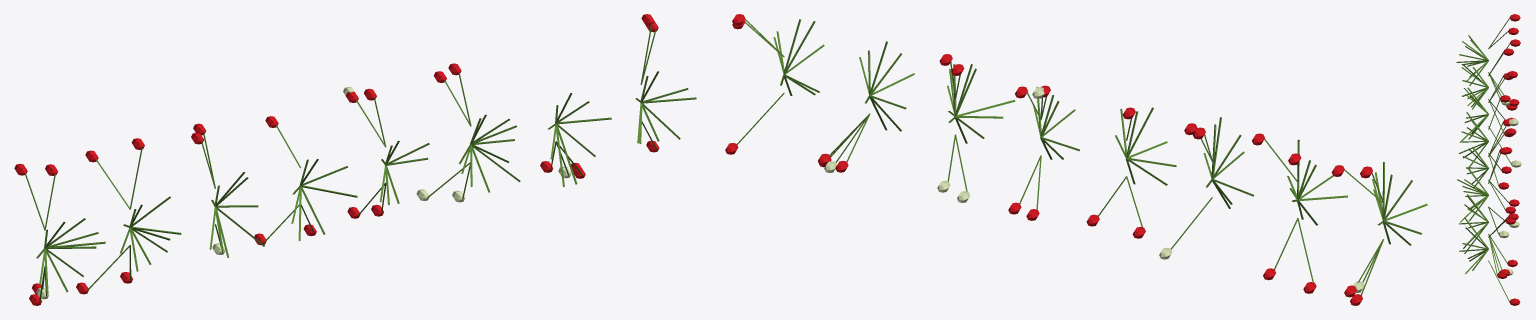
Rendered from r28c3_rest.obj.
The picture shows the model from 3 angles, left to right: view 1: azimuth 30°, elevation 25°; view 2: azimuth 150°, elevation 25°; view 3: azimuth 270°, elevation 25°; orthographic projection. The views are drawn at different scales.
Parts seen in each view (by area): view 1: r28c3_rest; view 2: r28c3_rest; view 3: r28c3_rest.
Boxes of the visible parts, x1,y1,x2,y2 form: r28c3_rest: [14, 14, 696, 305]; r28c3_rest: [725, 14, 1427, 305]; r28c3_rest: [1456, 14, 1521, 305].
Size of the model in its own units: 1.94 by 0.4013 by 0.2581.
